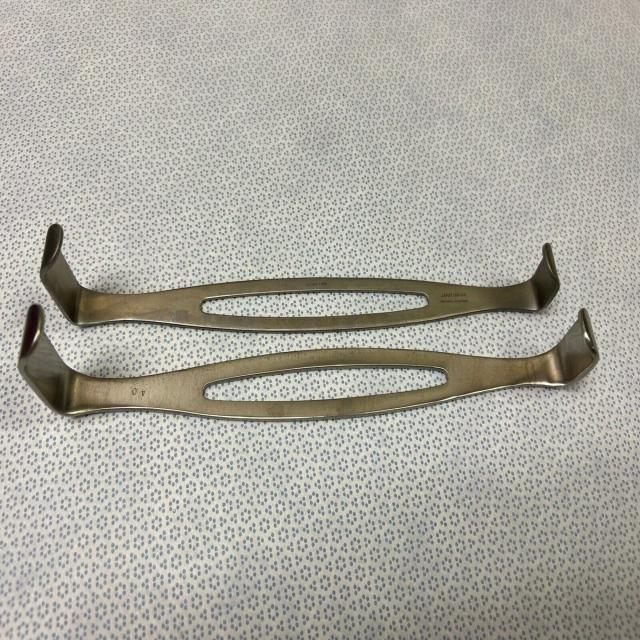Army Navy Retractor: (10, 304, 608, 434), (32, 205, 566, 339)
